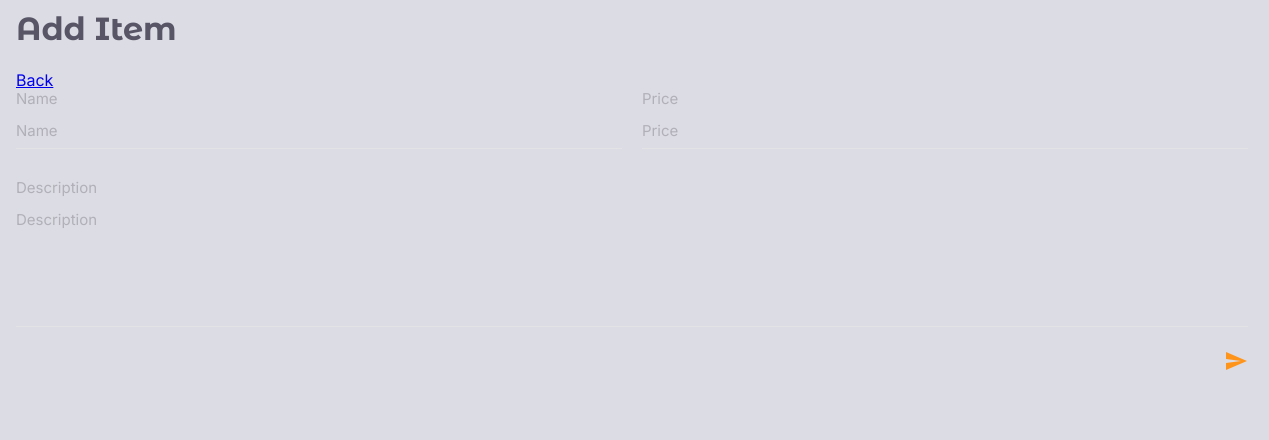
Test: AddItemPage › shows mutation error
Type "Milk" into the field labelled "Name". click: (319, 135)
box: [16,122,622,149]
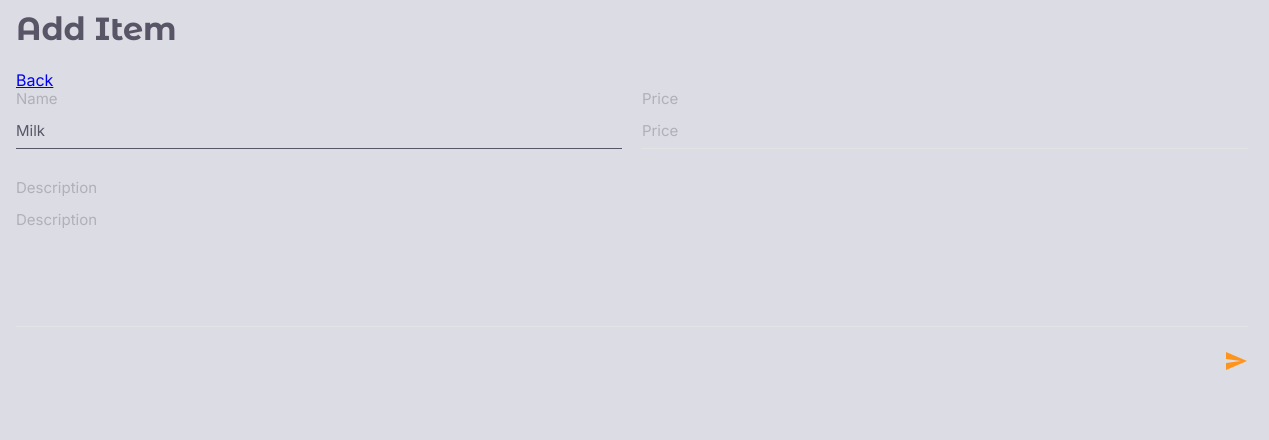
Type "8" into the number field labelled "Price". click: (945, 135)
box: [642,122,1248,149]
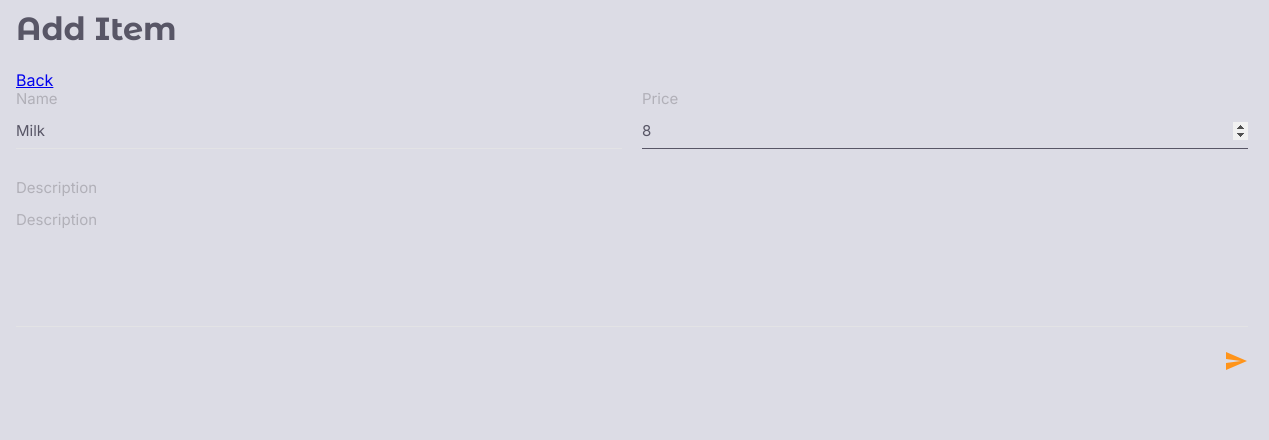
Click the button named "Save". click: (1236, 361)
box: [1224,349,1248,373]
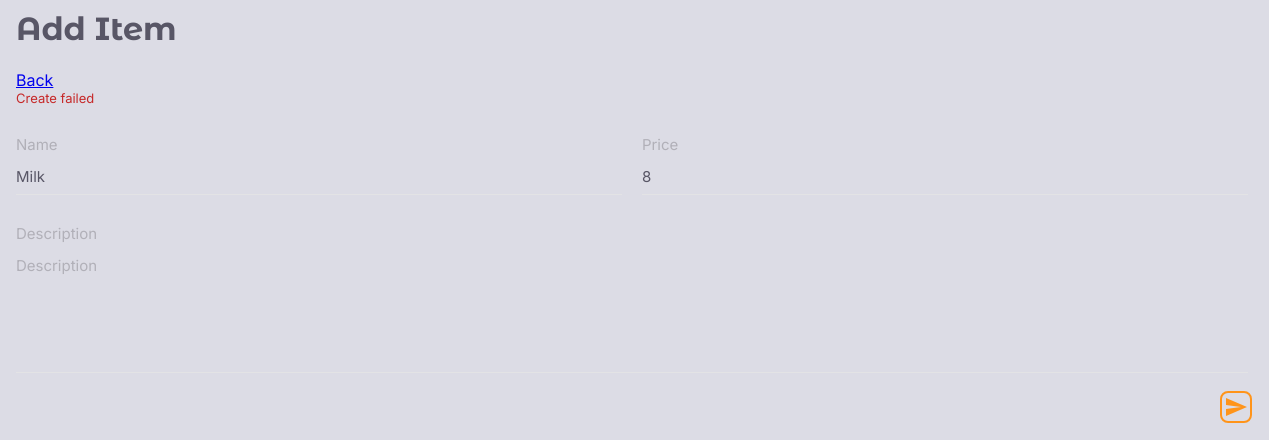
Expected: the text "Create failed" is shown, [16,90,94,106]
